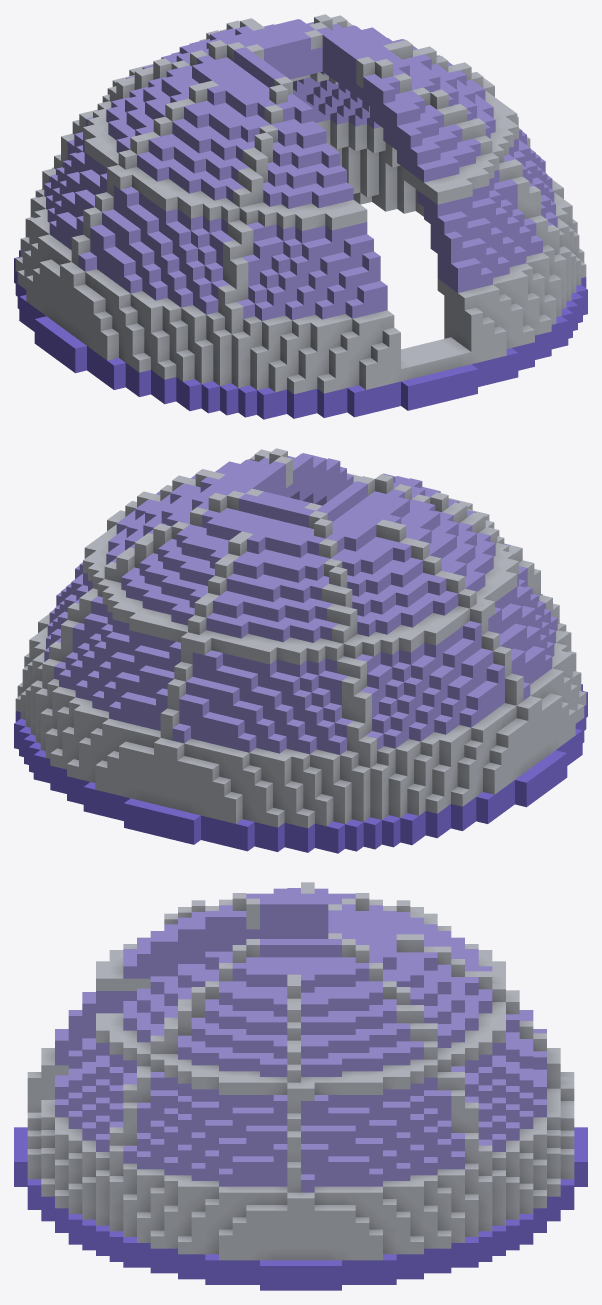
File: obs_dome5.glb
3 renders of one model, top to bottom at view 1: azimuth 30°, elevation 25°; view 2: azimuth 150°, elevation 25°; view 3: azimuth 270°, elevation 25°, orthographic.
Parts seen in each view (by area): view 1: Base; view 2: Base; view 3: Base.
Part boxes in pixels (box(x1,y1,x2,y2)): Base: box(14, 14, 587, 419); Base: box(14, 448, 587, 853); Base: box(14, 882, 587, 1290).
Bounding box in the file's own units: 4.2 × 2 × 4.2.
